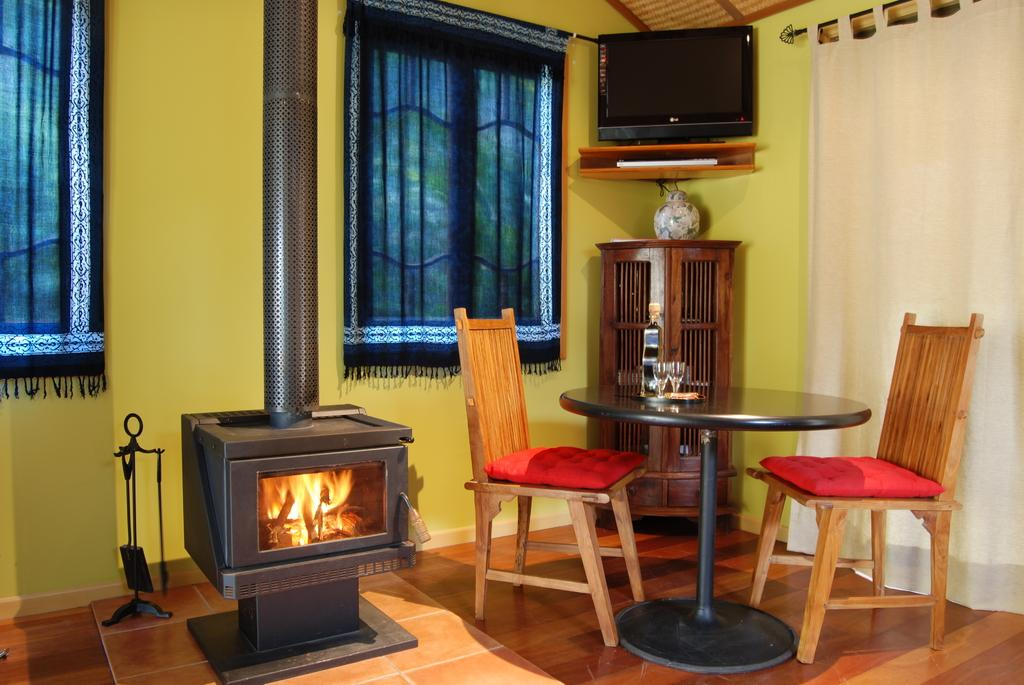Fire: (181, 399, 411, 682)
